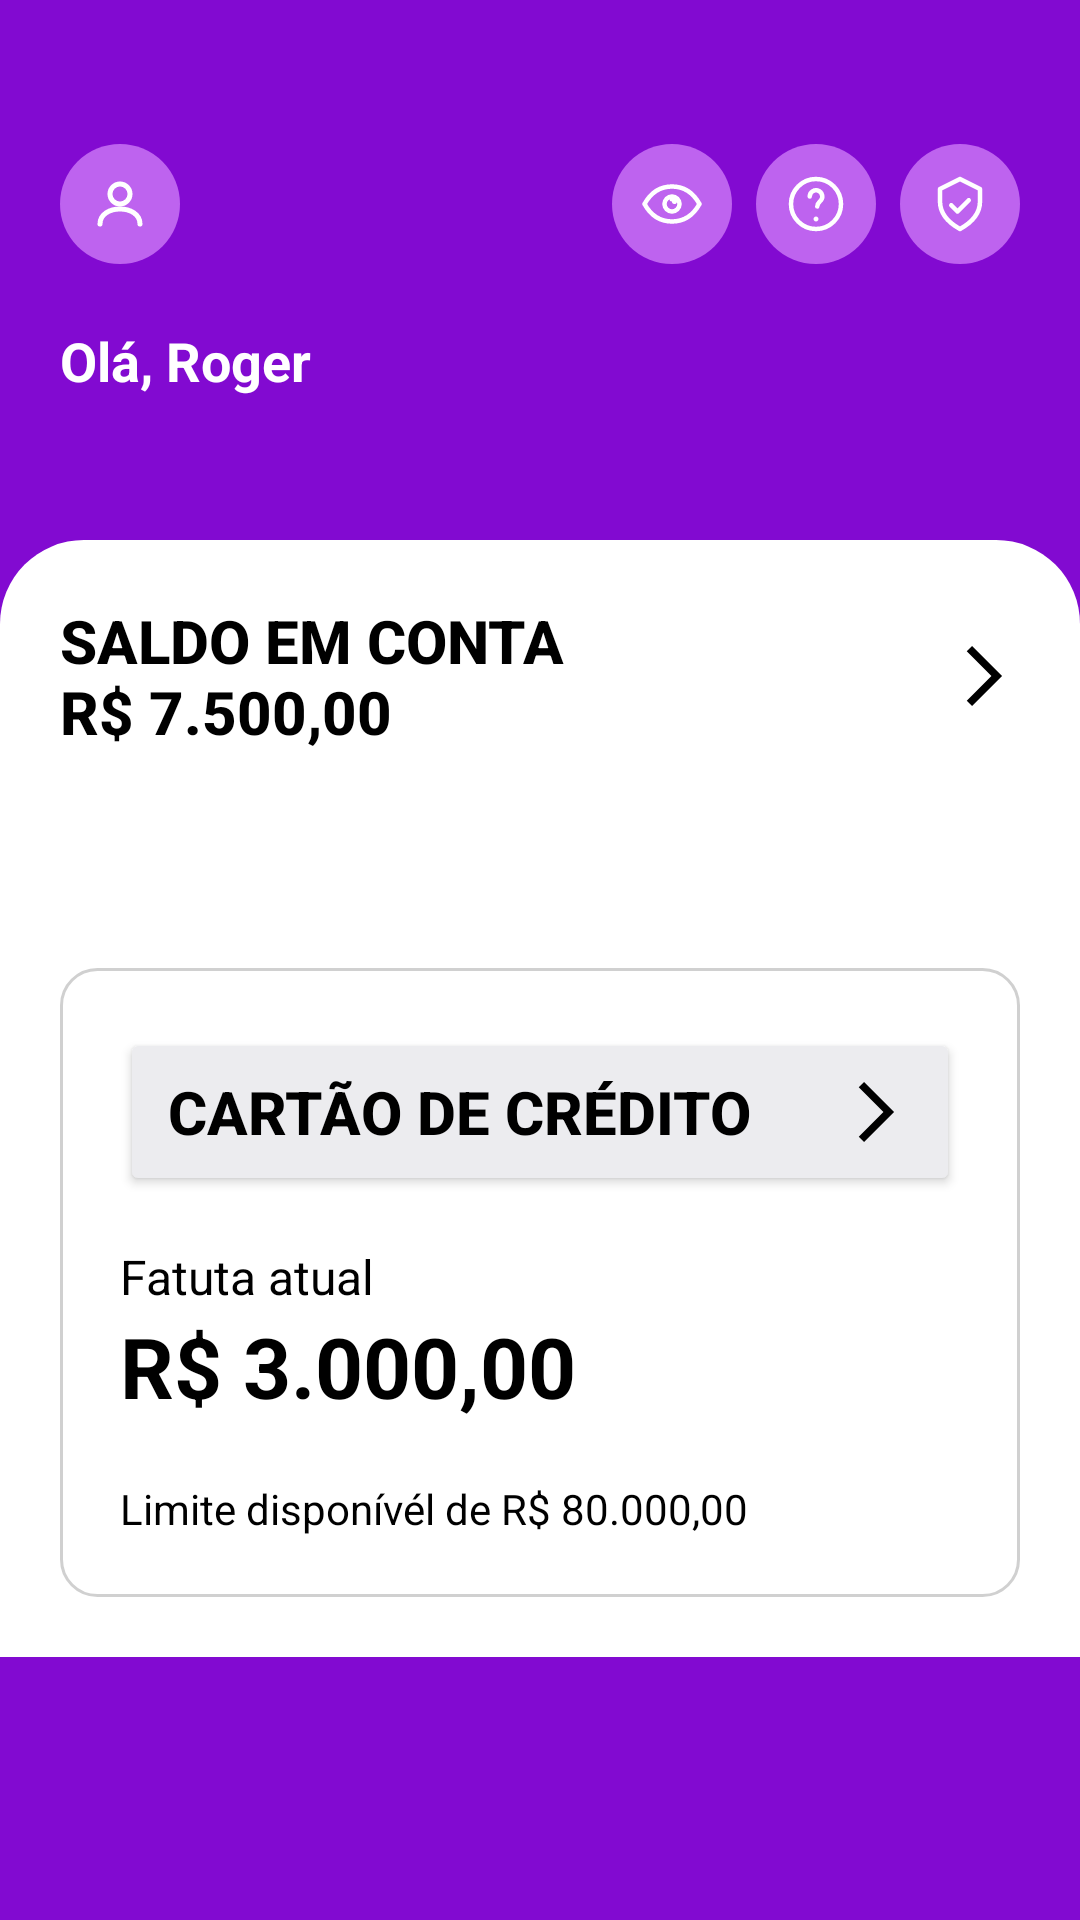

Icon click points for this 1080px×1920px phone screenshot, format [x,y]:
help: [816,204]
protection: [960,204]
user: [120,204]
visibility show: [672,204]
